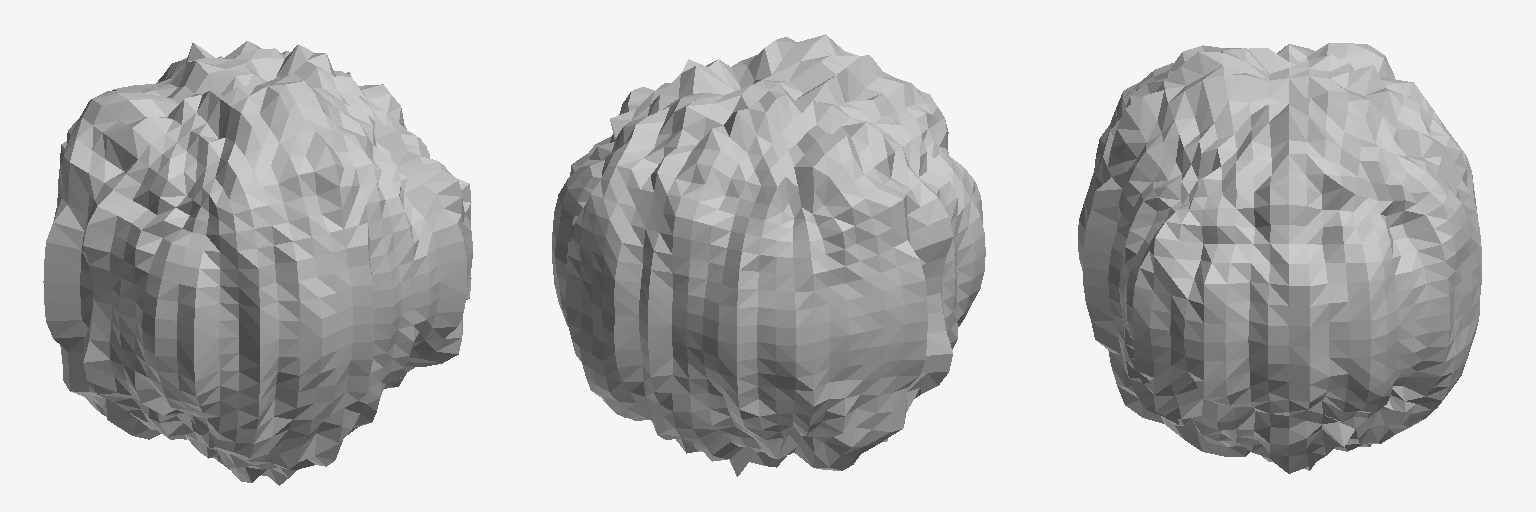
File: asteroid94.obj
The picture shows the model from 3 angles: view 1: azimuth 30°, elevation 25°; view 2: azimuth 150°, elevation 25°; view 3: azimuth 270°, elevation 25°; orthographic projection.
Visible parts, largest first — view 1: Cube_Cube.002; view 2: Cube_Cube.002; view 3: Cube_Cube.002.
Boxes of the visible parts, box(x1,y1,x2,y2) form: Cube_Cube.002: box(43, 41, 472, 485); Cube_Cube.002: box(552, 34, 985, 476); Cube_Cube.002: box(1078, 43, 1481, 473).
Bounding box in the file's own units: 1.84 × 1.85 × 1.73.